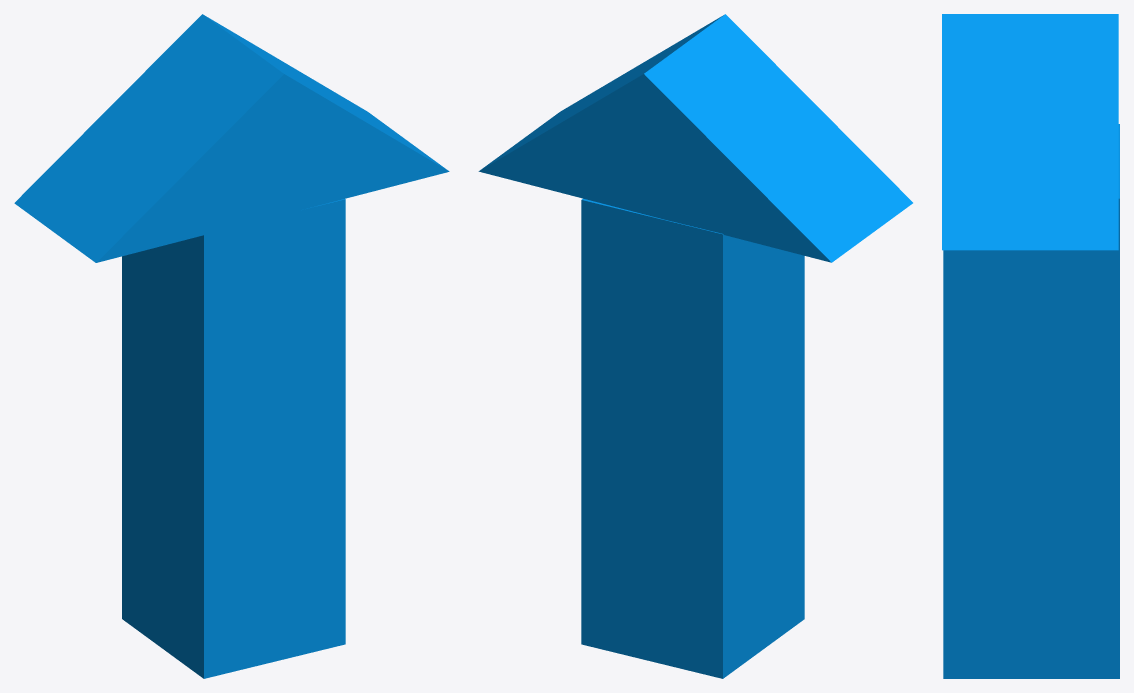
Rendered from Arrow2.FBX.
3 views of the same model, side by side, from view 1: azimuth 30°, elevation 25°; view 2: azimuth 150°, elevation 25°; view 3: azimuth 270°, elevation 25° (orthographic). The views are drawn at different scales.
Visible parts, largest first — view 1: Box001, Line001; view 2: Box001, Line001; view 3: Box001, Line001.
Boxes of the visible parts, x1,y1,x2,y2 form: Box001: [122, 199, 345, 678]; Line001: [14, 14, 449, 262]; Box001: [581, 198, 804, 678]; Line001: [478, 14, 912, 262]; Box001: [943, 124, 1119, 678]; Line001: [942, 14, 1118, 250].
Bounding box in the file's own units: 24.96 × 39.5 × 10.07.
